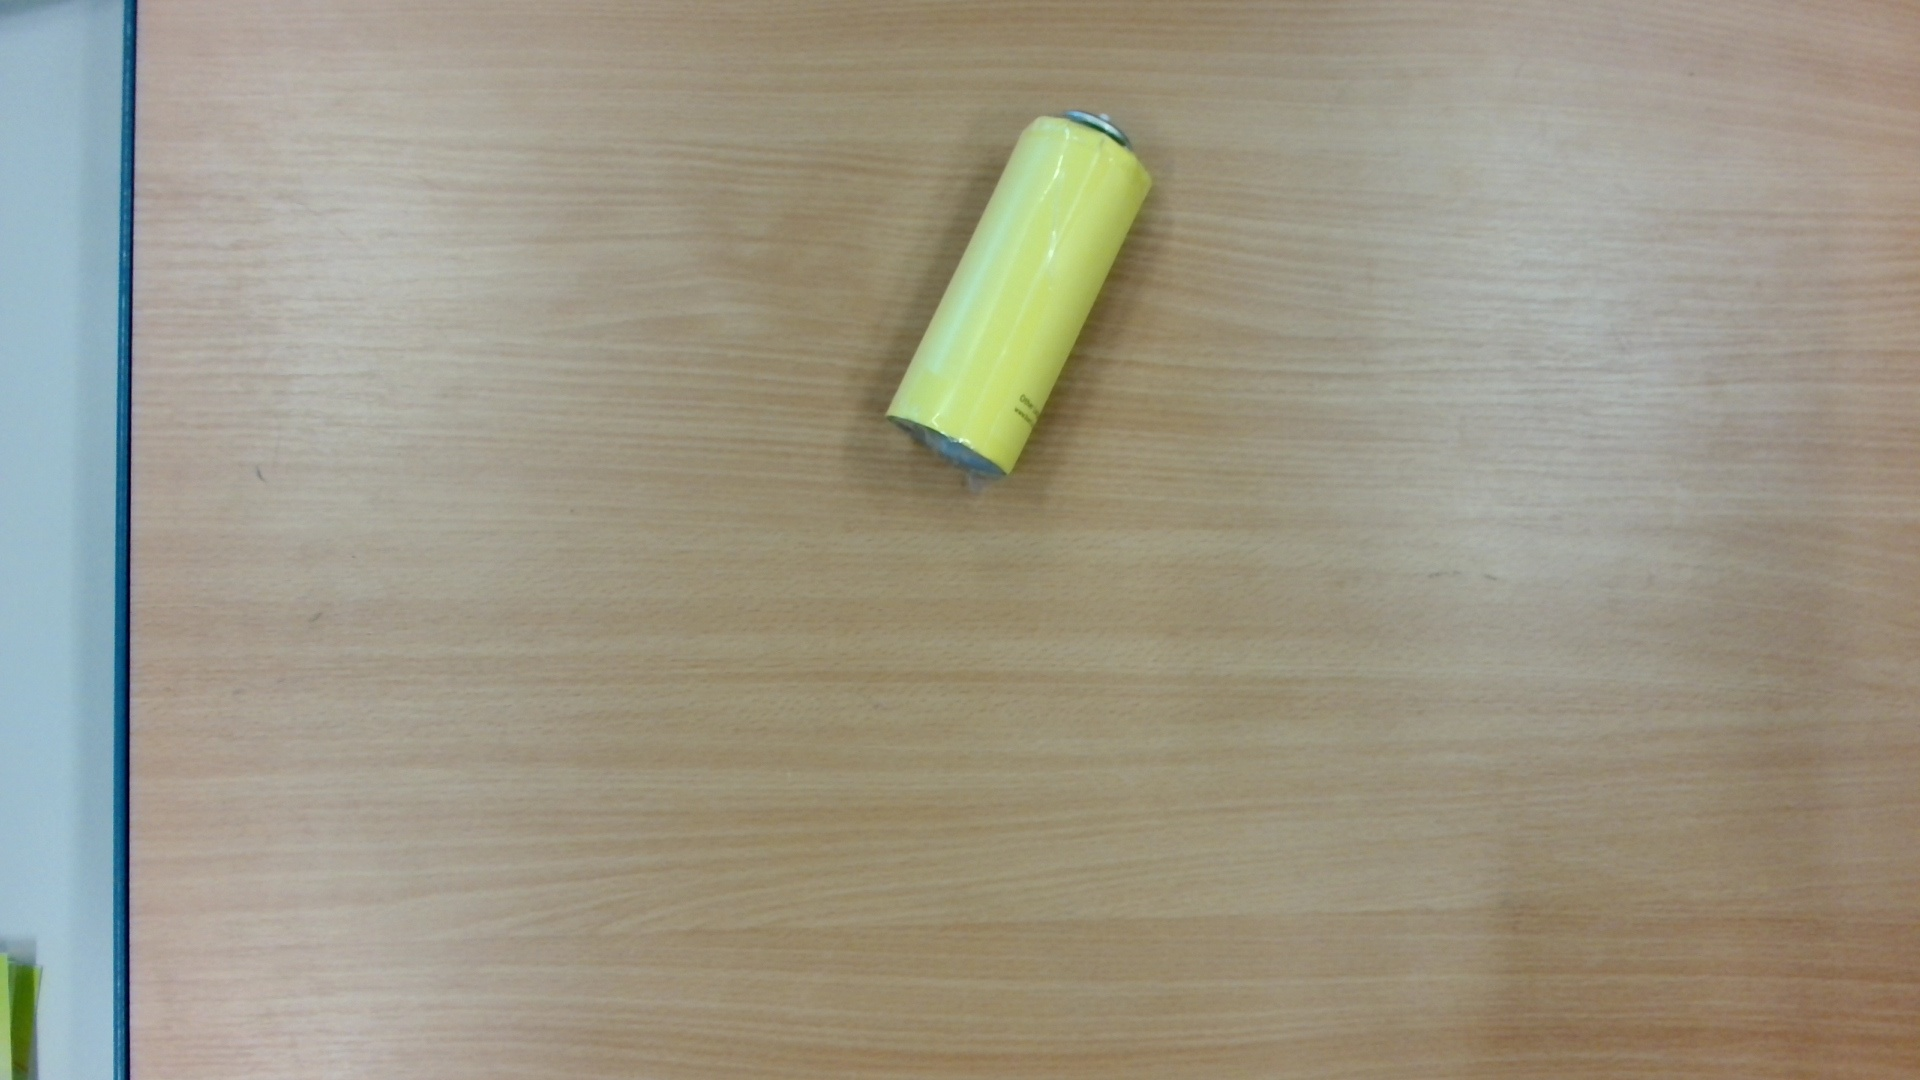Cylinder: (876, 91, 1164, 506)
